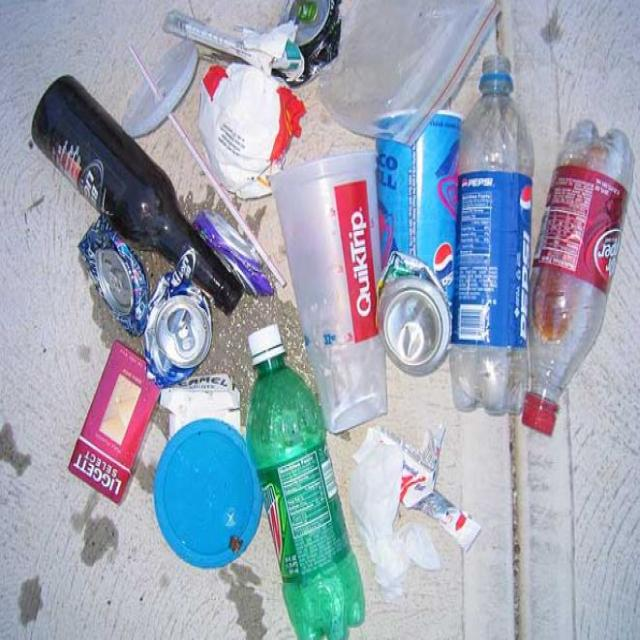metal: (385, 115, 450, 363)
paper: (78, 328, 152, 531)
plastic: (248, 336, 357, 640), (452, 81, 536, 424), (538, 114, 616, 442), (278, 164, 392, 376), (364, 420, 469, 602), (331, 0, 489, 103), (187, 50, 298, 179), (165, 425, 258, 574), (104, 46, 186, 120)
